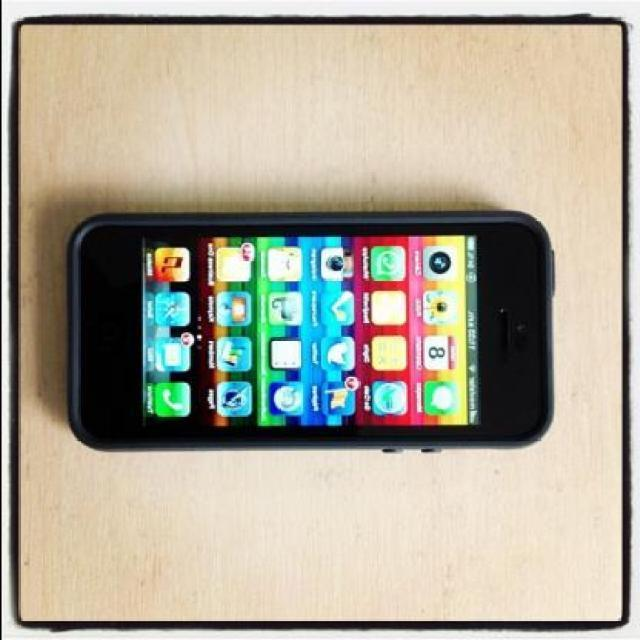phone: (65, 210, 557, 459)
